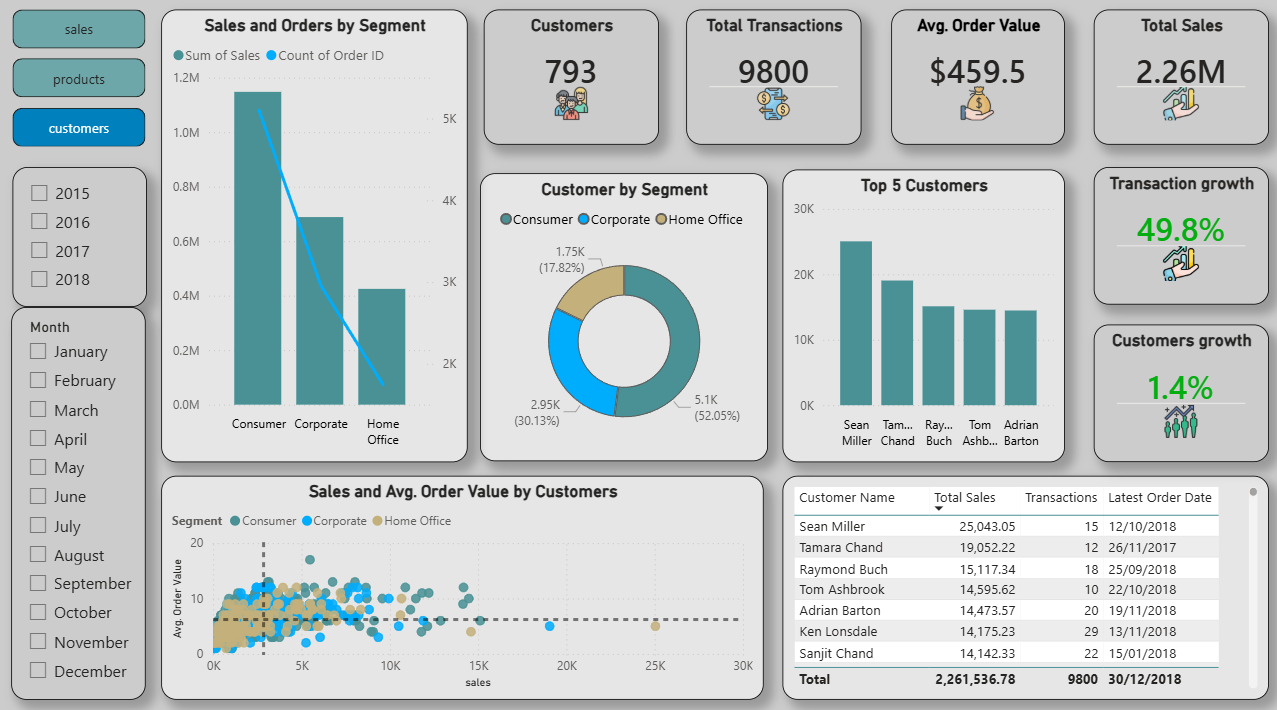

What the dashboard file says about the page in this screenshot:
{"tool":"powerbi","page":{"name":"customers","canvas":[1280,720],"ordinal":2},"visuals":[{"type":"donutChart","title":"Customer by Segment","fields":{"Category":["Table1.Segment"],"Y":["CountNonNull(Table1.Customer Name)"]},"box":[480,176,288,288],"z":0},{"type":"columnChart","title":"Top 5 Customers","fields":{"Category":["Table1.Customer Name"],"Y":["Sum(Table1.Sales)"]},"box":[782.5,172.5,282.5,292.5],"z":1000},{"type":"cardVisual","title":"Avg. Order Value","fields":{"Data":["Table1.average sales per order"]},"box":[891.2,12.5,173.8,135],"z":2000},{"type":"cardVisual","title":"Customers","fields":{"Data":["Count(Table1.Customer Name)"]},"box":[483.8,12.5,175,135],"z":3000},{"type":"cardVisual","title":"Total Transactions","fields":{"Data":["Table1.total transacion"]},"box":[686.2,12.5,175,135],"z":4000},{"type":"slicer","fields":{"Values":["Table1.Order Date.Variation.Date Hierarchy.Year"]},"box":[12,170,134,140],"z":5000},{"type":"slicer","fields":{"Values":["Table1.Order Date.Variation.Date Hierarchy.Month"]},"box":[11,310,134,393],"z":6000},{"type":"lineClusteredColumnComboChart","title":" Sales and  Orders  by Segment","fields":{"Category":["Table1.Segment"],"Y":["Sum(Table1.Sales)"],"Y2":["CountNonNull(Table1.Order ID)"]},"box":[161.2,12.5,306.2,452.5],"z":7000},{"type":"tableEx","fields":{"Values":["Table1.Customer Name","Sum(Table1.Sales)","Table1.Order ID","Table1.Order Date"]},"box":[782.5,478.8,486.2,223.8],"z":8000},{"type":"scatterChart","title":"Sales and Avg. Order Value by Customers","fields":{"Category":["Table1.Customer Name"],"X":["Sum(Table1.Sales)"],"Y":["Table1.Total Orders"],"Series":["Table1.Segment"]},"box":[161.2,478.8,602.5,223.8],"z":9000},{"type":"pageNavigator","box":[12.5,12.5,133.8,137.5],"z":10000},{"type":"cardVisual","title":"Total Sales","fields":{"Data":["Sum(Table1.Sales)"]},"box":[1093.8,12.5,175,135],"z":11000},{"type":"cardVisual","title":"Customers growth","fields":{"Data":["Table1.Customers Growth"]},"box":[1093.8,327.5,175,137.5],"z":12000},{"type":"cardVisual","title":"Transaction growth","fields":{"Data":["Table1.Transaction Growth"]},"box":[1093.8,170,175,137.5],"z":13000}]}

Visuals, with their boxes in screenshot pixels (x1, y1, x2, y2), scaled from the page's 1280x720 canvas onto the 1277x710 screenshot:
"Customer by Segment" donutChart: (x1=479, y1=174, x2=766, y2=458)
"Top 5 Customers" columnChart: (x1=781, y1=170, x2=1063, y2=459)
"Avg. Order Value" cardVisual: (x1=889, y1=12, x2=1063, y2=145)
"Customers" cardVisual: (x1=483, y1=12, x2=657, y2=145)
"Total Transactions" cardVisual: (x1=685, y1=12, x2=859, y2=145)
slicer - Table1.Order Date.Variation.Date Hierarchy.Year: (x1=12, y1=168, x2=146, y2=306)
slicer - Table1.Order Date.Variation.Date Hierarchy.Month: (x1=11, y1=306, x2=145, y2=693)
" Sales and  Orders  by Segment" lineClusteredColumnComboChart: (x1=161, y1=12, x2=466, y2=459)
tableEx - Table1.Customer Name x Sum(Table1.Sales): (x1=781, y1=472, x2=1266, y2=693)
"Sales and Avg. Order Value by Customers" scatterChart: (x1=161, y1=472, x2=762, y2=693)
pageNavigator: (x1=12, y1=12, x2=146, y2=148)
"Total Sales" cardVisual: (x1=1091, y1=12, x2=1266, y2=145)
"Customers growth" cardVisual: (x1=1091, y1=323, x2=1266, y2=459)
"Transaction growth" cardVisual: (x1=1091, y1=168, x2=1266, y2=303)
